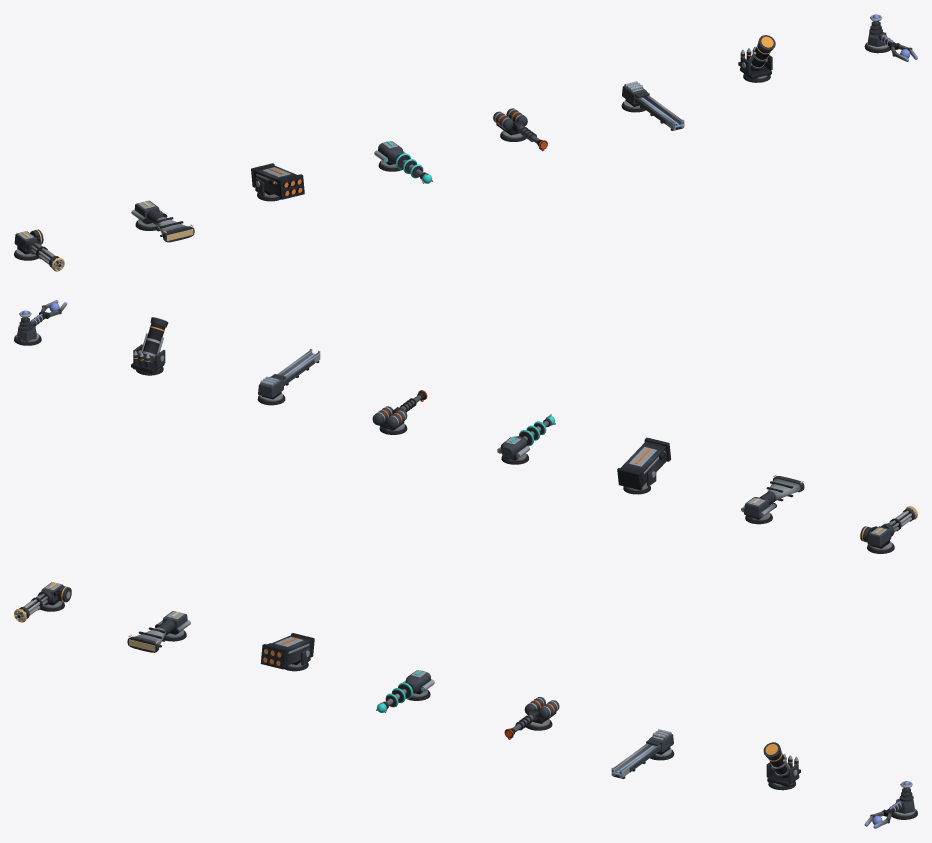
File: guns.glb
3 views of the same model, one above another, from view 1: azimuth 30°, elevation 25°; view 2: azimuth 150°, elevation 25°; view 3: azimuth 330°, elevation 25° (orthographic).
Parts seen in each view (by area): view 1: gun_rockets, gun_scatter, gun_rail, gun_mortar, gun_plasma, gun_chaingun, gun_flamer, gun_arc; view 2: gun_rockets, gun_scatter, gun_mortar, gun_rail, gun_plasma, gun_chaingun, gun_flamer, gun_arc; view 3: gun_rockets, gun_scatter, gun_rail, gun_mortar, gun_plasma, gun_chaingun, gun_flamer, gun_arc.
Boxes of the visible parts, <box> form: gun_rockets: <box>251,163,304,201</box>; gun_scatter: <box>131,200,194,242</box>; gun_rail: <box>621,81,684,130</box>; gun_mortar: <box>738,35,775,82</box>; gun_plasma: <box>374,141,432,183</box>; gun_chaingun: <box>14,229,64,271</box>; gun_flamer: <box>493,108,547,151</box>; gun_arc: <box>864,14,917,61</box>; gun_rockets: <box>617,437,670,494</box>; gun_scatter: <box>741,474,804,524</box>; gun_mortar: <box>131,317,168,375</box>; gun_rail: <box>257,349,320,405</box>; gun_plasma: <box>497,414,555,464</box>; gun_chaingun: <box>860,506,917,553</box>; gun_flamer: <box>372,390,427,434</box>; gun_arc: <box>14,300,67,345</box>; gun_rockets: <box>260,633,314,671</box>; gun_scatter: <box>127,611,190,652</box>; gun_rail: <box>611,729,674,778</box>; gun_mortar: <box>763,742,800,790</box>; gun_plasma: <box>376,670,434,712</box>; gun_chaingun: <box>14,582,71,622</box>; gun_flamer: <box>504,697,559,739</box>; gun_arc: <box>864,781,917,828</box>.
Bounding box in the file's own units: 28.79 × 1.47 × 3.11.
